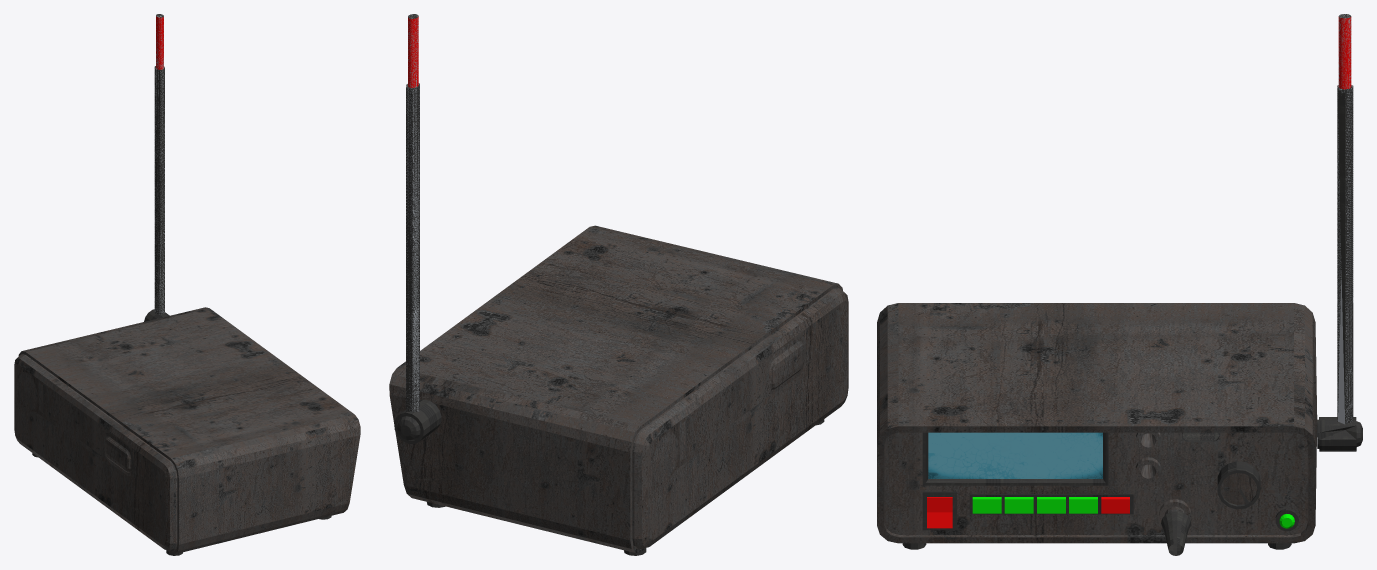
The model's file is Radio.fbx.
3 renders of one model, left to right at view 1: azimuth 30°, elevation 25°; view 2: azimuth 150°, elevation 25°; view 3: azimuth 270°, elevation 25°, orthographic. The views are drawn at different scales.
Visible parts, largest first — view 1: Group1; view 2: Group1; view 3: Group1.
Boxes of the visible parts, left/top/right/bottom form: Group1: left=14, top=14, right=360, bottom=555; Group1: left=389, top=14, right=848, bottom=555; Group1: left=877, top=14, right=1362, bottom=555.
Bounding box in the file's own units: 340 × 541 × 454.
